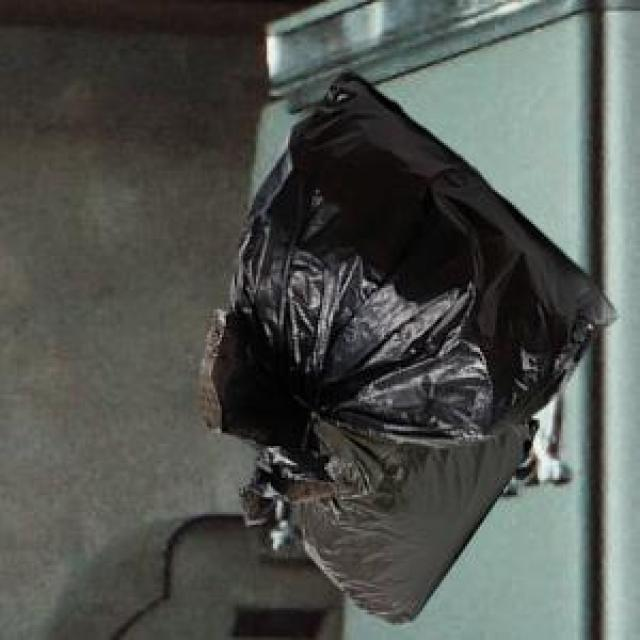waste: (215, 74, 612, 621)
